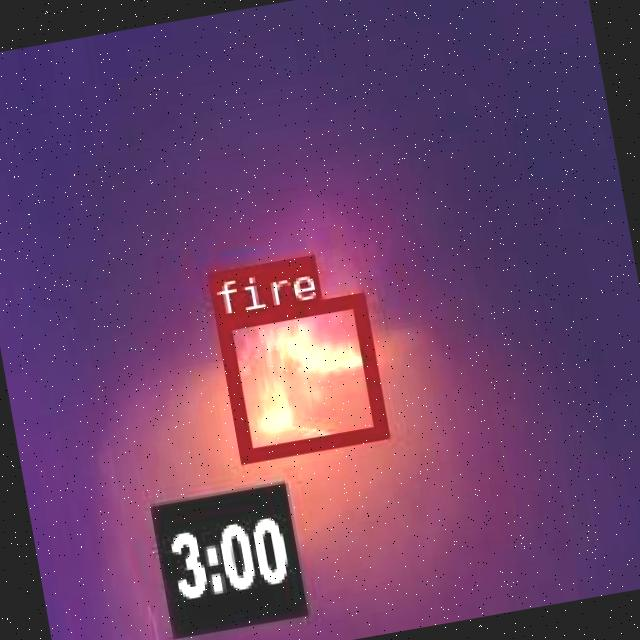fire: (213, 292, 385, 461)
